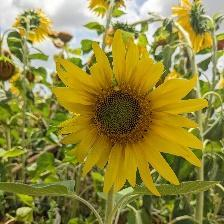sunflower: (54, 28, 211, 196)
